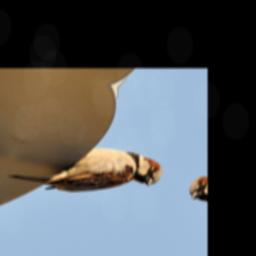Swallow: (6, 122, 168, 218)
